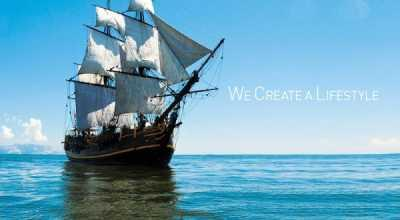fanchuan: (60, 1, 225, 162)
